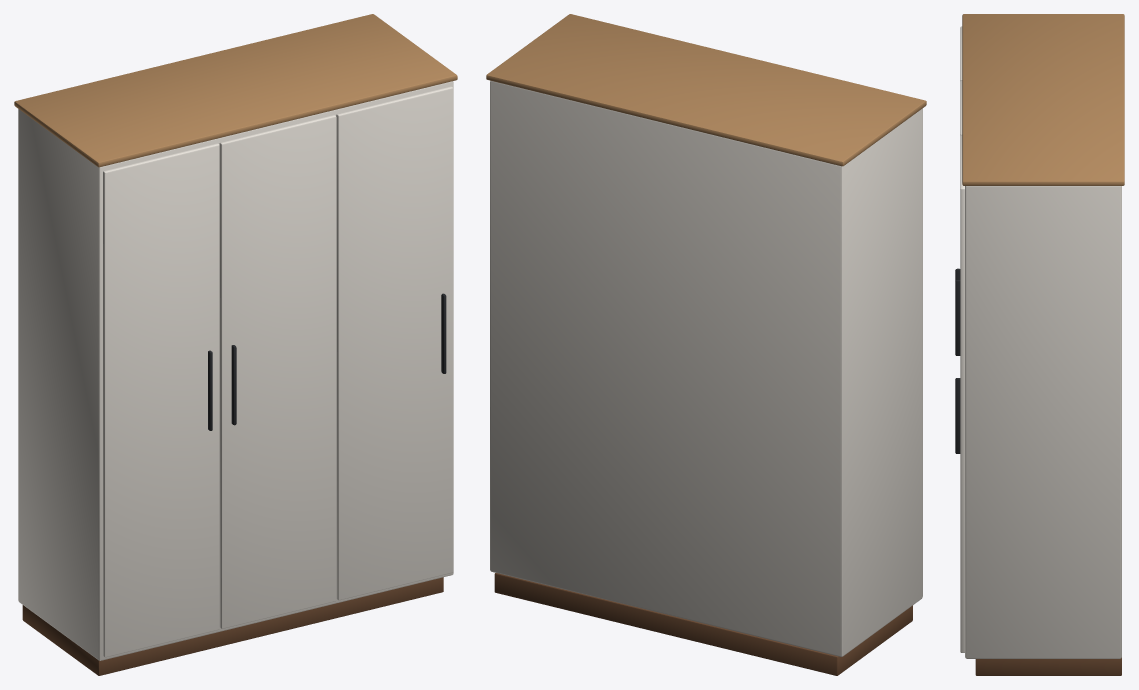
Rendered from wardrobe_3.glb.
The picture shows the model from 3 angles, left to right: view 1: azimuth 30°, elevation 25°; view 2: azimuth 150°, elevation 25°; view 3: azimuth 270°, elevation 25°; orthographic projection. The views are drawn at different scales.
Parts seen in each view (by area): view 1: box.007, box.005, box.003, box.001, box.002, box; view 2: box.001, box.002, box; view 3: box.001, box.002, box, box.007, box.006, box.008.
Boxes of the visible parts, bbox=[...] form: box.007: bbox=[336, 86, 453, 600]; box.005: bbox=[219, 115, 336, 628]; box.003: bbox=[103, 143, 219, 657]; box.001: bbox=[18, 81, 453, 660]; box.002: bbox=[14, 14, 457, 167]; box: bbox=[22, 577, 443, 675]; box.001: bbox=[490, 80, 922, 656]; box.002: bbox=[486, 14, 926, 166]; box: bbox=[494, 573, 912, 675]; box.001: bbox=[965, 186, 1121, 658]; box.002: bbox=[962, 14, 1124, 185]; box: bbox=[975, 657, 1121, 675]; box.007: bbox=[960, 135, 964, 652]; box.006: bbox=[955, 280, 960, 355]; box.008: bbox=[955, 378, 960, 453].
Bounding box in the file's own units: 152 × 210 × 64.7.
